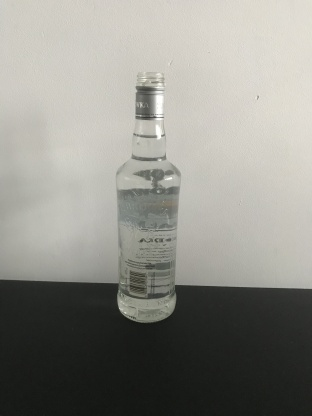nakretka: (133, 69, 166, 121)
